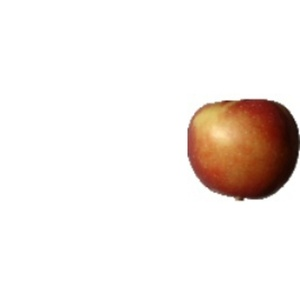maçã braeburn: (185, 98, 300, 204)
